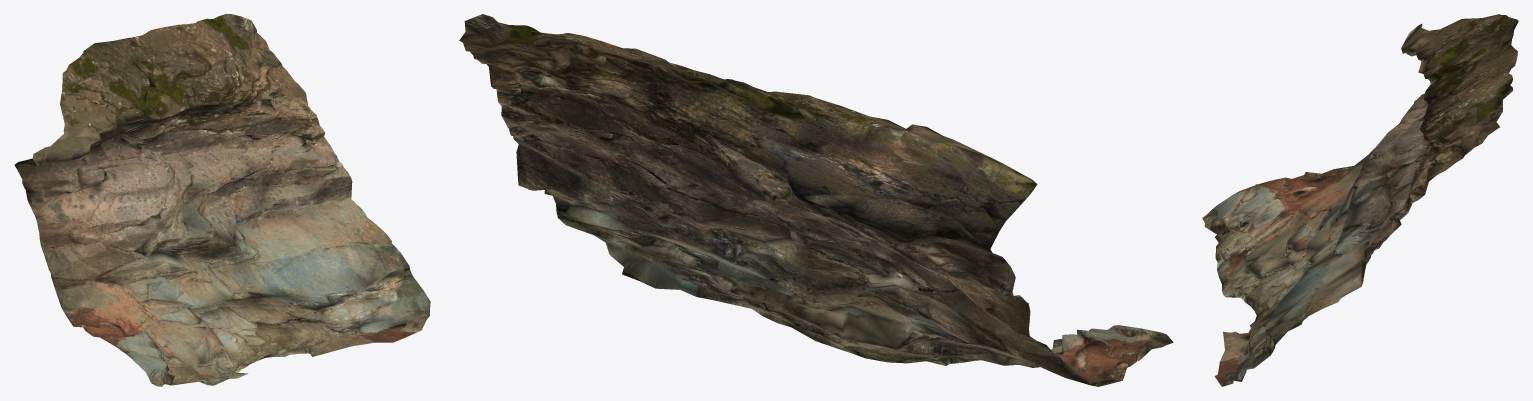
Rendered from nat-cliff.glb.
The picture shows the model from 3 angles, left to right: view 1: azimuth 30°, elevation 25°; view 2: azimuth 150°, elevation 25°; view 3: azimuth 270°, elevation 25°; orthographic projection. The views are drawn at different scales.
Visible parts, largest first — view 1: rock_face_01; view 2: rock_face_01; view 3: rock_face_01.
Part boxes in pixels (x1,y1,x2,y2): rock_face_01: [14, 14, 430, 386]; rock_face_01: [459, 14, 1173, 386]; rock_face_01: [1202, 14, 1518, 386].
Bounding box in the file's own units: 4.94 × 3.56 × 3.82.
1 material, 1 textured.
